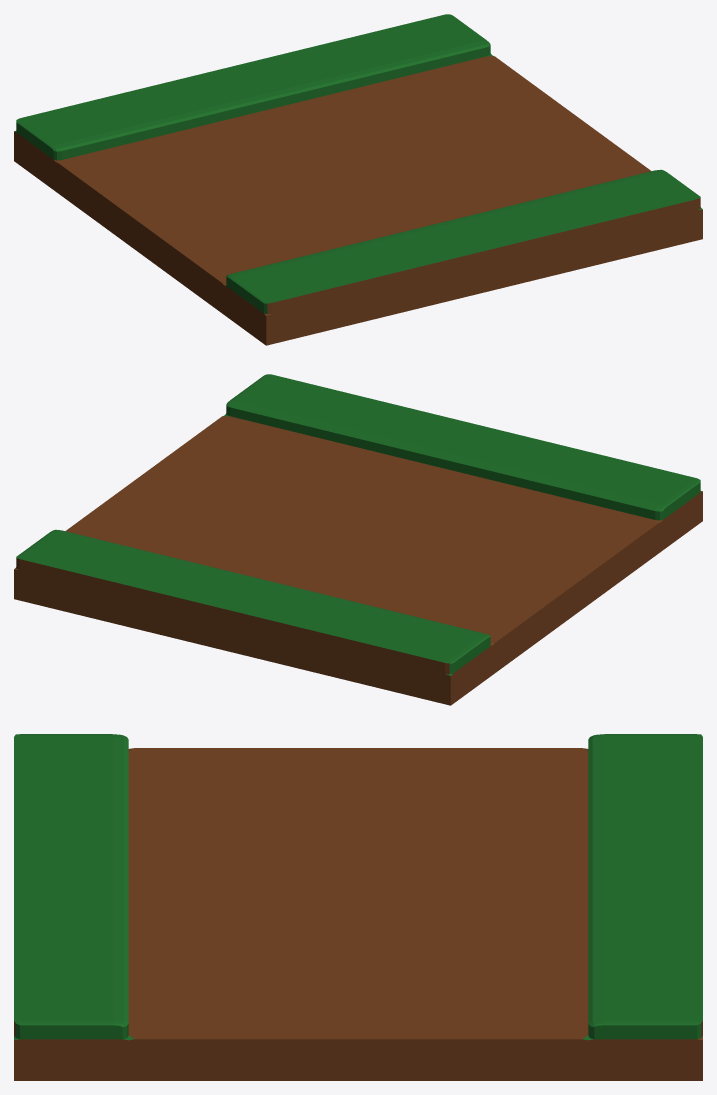
File: grass_path.glb
3 views of the same model, one above another, from view 1: azimuth 30°, elevation 25°; view 2: azimuth 150°, elevation 25°; view 3: azimuth 270°, elevation 25° (orthographic). The views are drawn at different scales.
Parts seen in each view (by area): view 1: road1.001; view 2: road1.001; view 3: road1.001.
Part boxes in pixels (x1,y1,x2,y2): road1.001: [14, 14, 702, 345]; road1.001: [14, 374, 702, 705]; road1.001: [14, 734, 702, 1080].
Bounding box in the file's own units: 3 × 0.2721 × 3.
